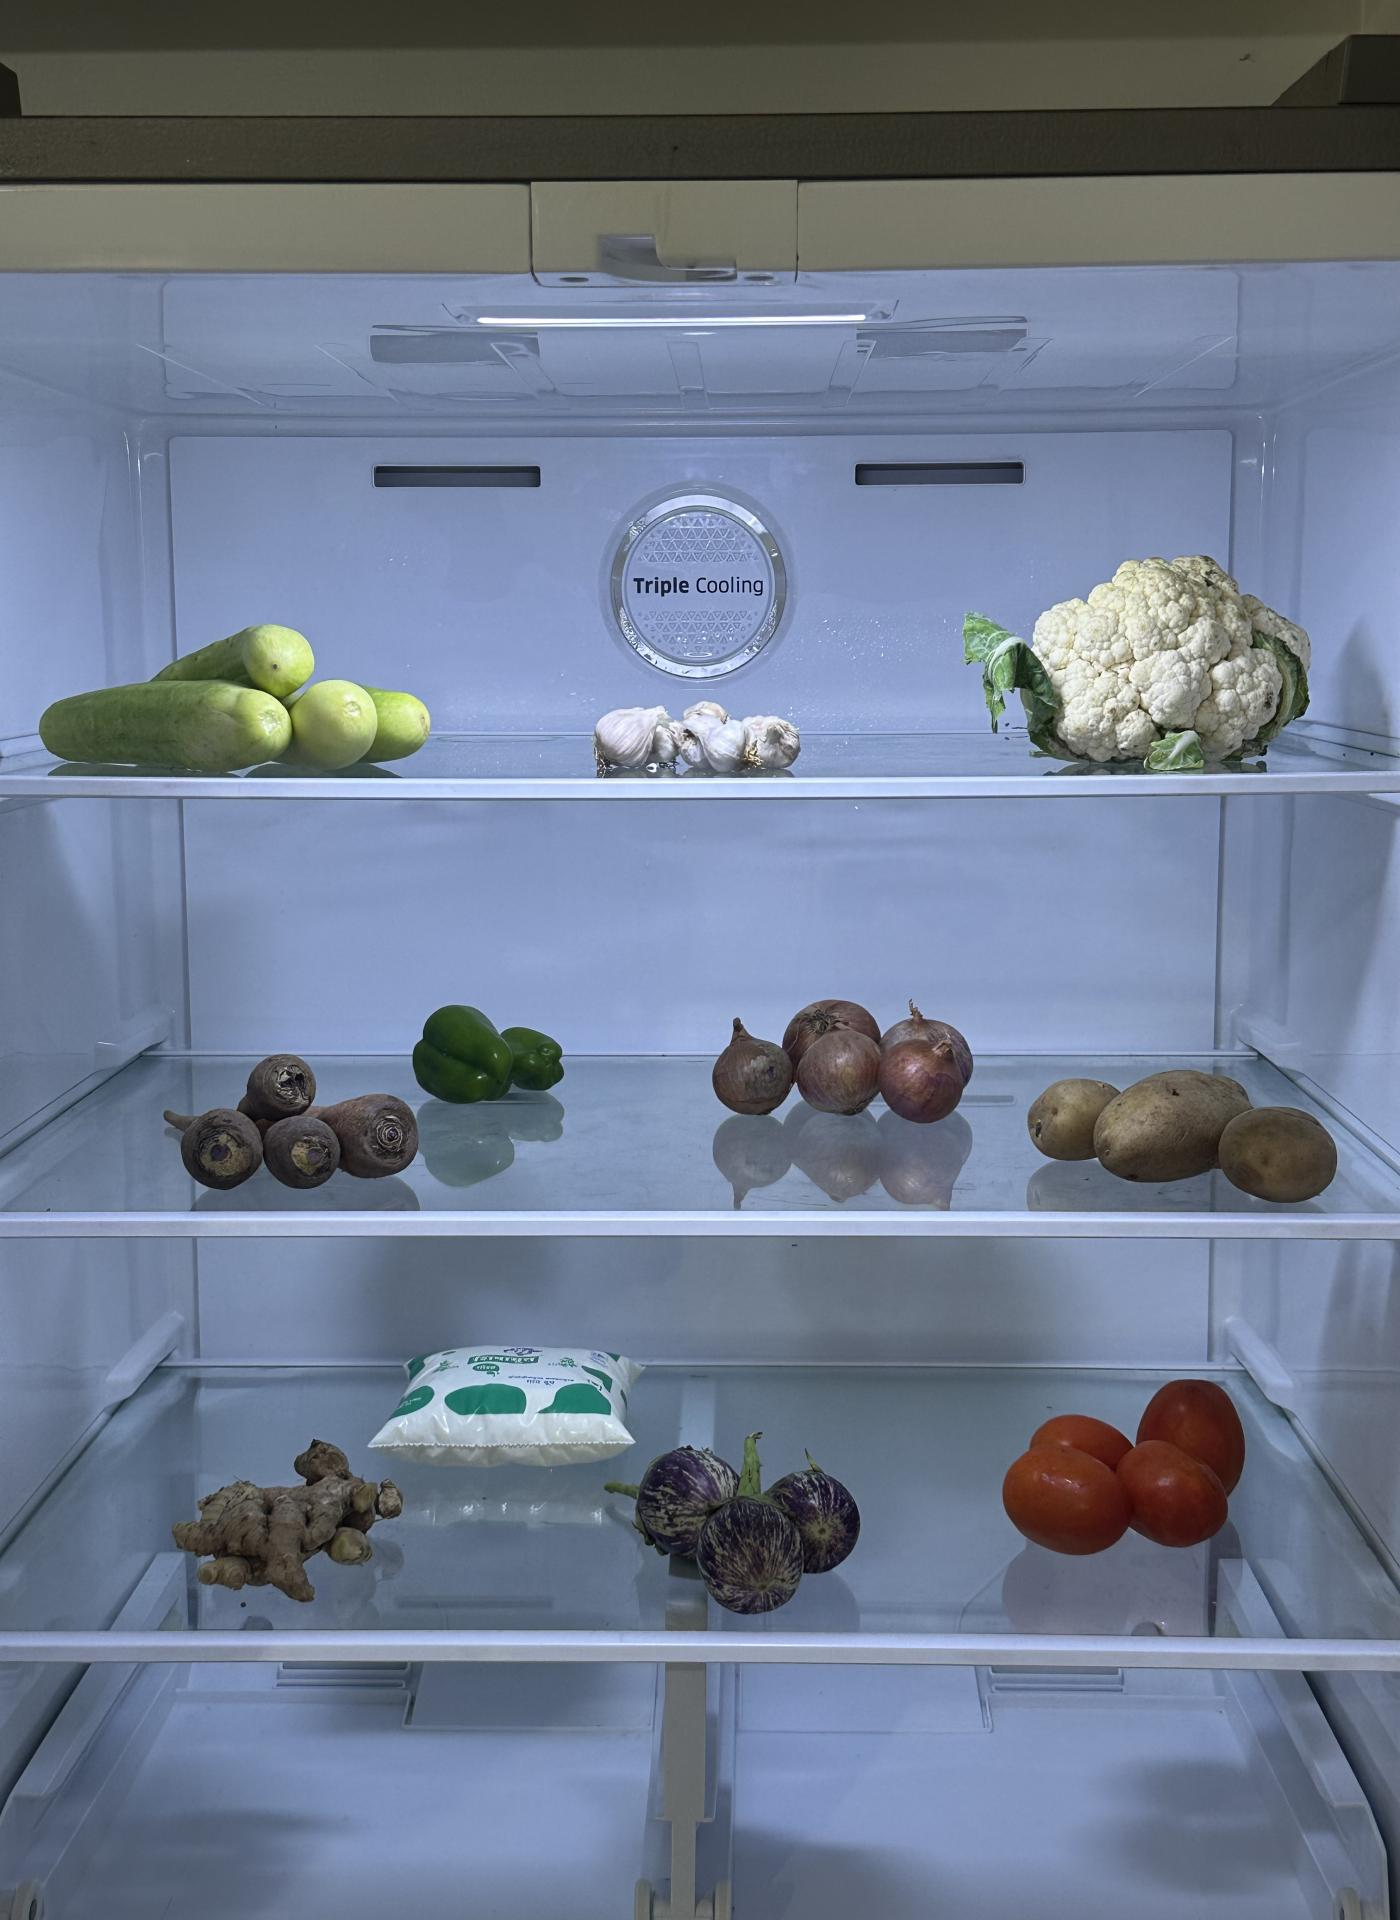brinjal: (635, 1430, 866, 1608)
capsicum: (403, 1000, 564, 1111)
carrots: (171, 1043, 426, 1188)
cauliflower: (1021, 549, 1321, 763)
cucumber: (37, 626, 435, 803)
garlic: (586, 690, 802, 772)
ginger: (179, 1441, 395, 1605)
milk: (370, 1334, 635, 1461)
onion: (711, 996, 983, 1124)
potato: (1026, 1054, 1340, 1203)
tomato: (997, 1376, 1248, 1558)
